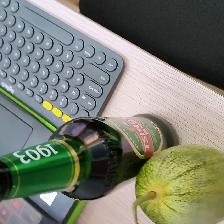gua: (152, 150, 221, 224)
